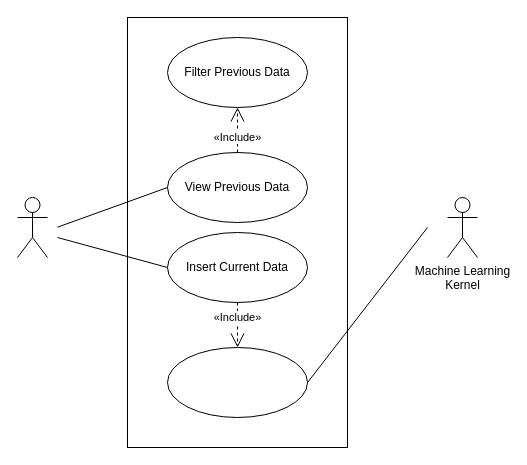
This 527x465 diagram has some shape labels left out. Here are the shapes that lost their labels. From the top down, the centre of each, then its label:
At (32,227): "User".
At (237,382): "Output Prediction".
